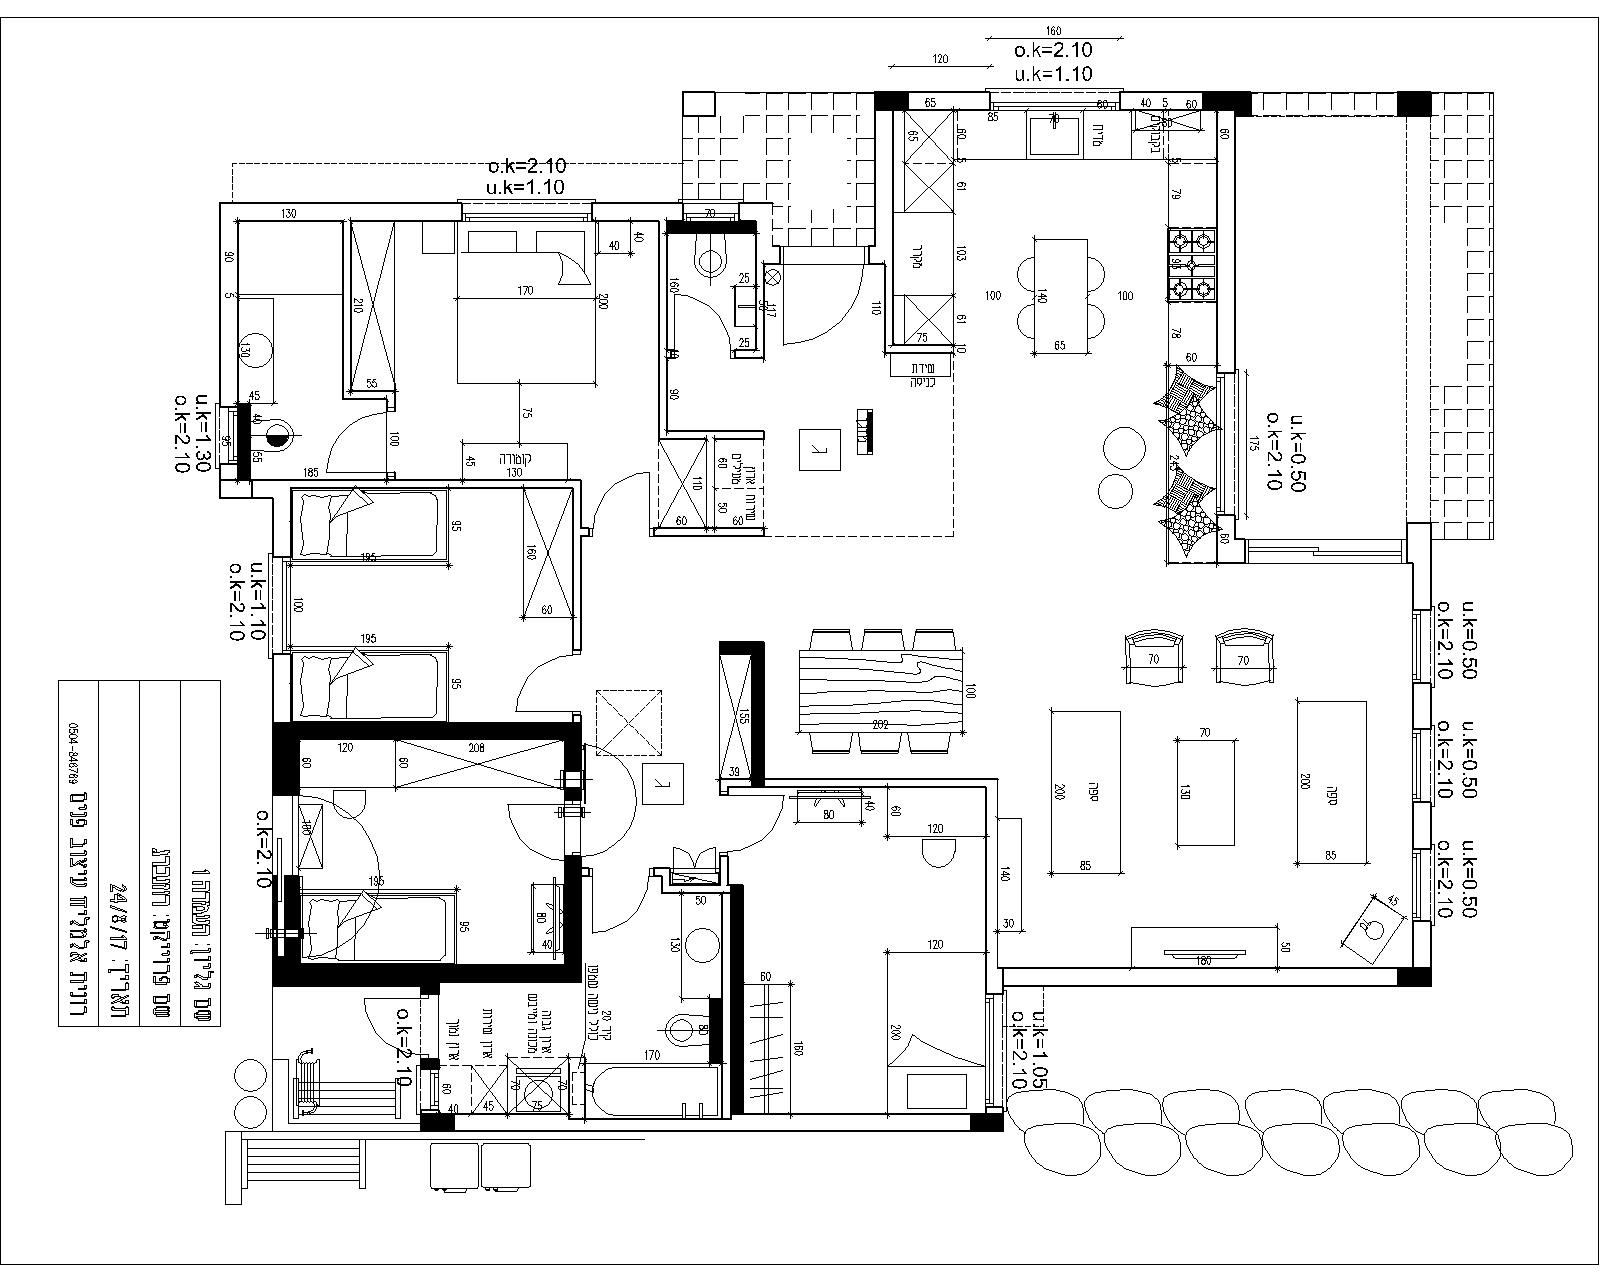door: (778, 270, 867, 351), (496, 792, 566, 869), (586, 872, 656, 950), (502, 643, 571, 718), (589, 468, 657, 524)
window: (1241, 539, 1405, 566), (462, 199, 593, 223), (990, 88, 1121, 112), (1411, 846, 1438, 926), (1412, 728, 1439, 806), (1411, 609, 1437, 688)
